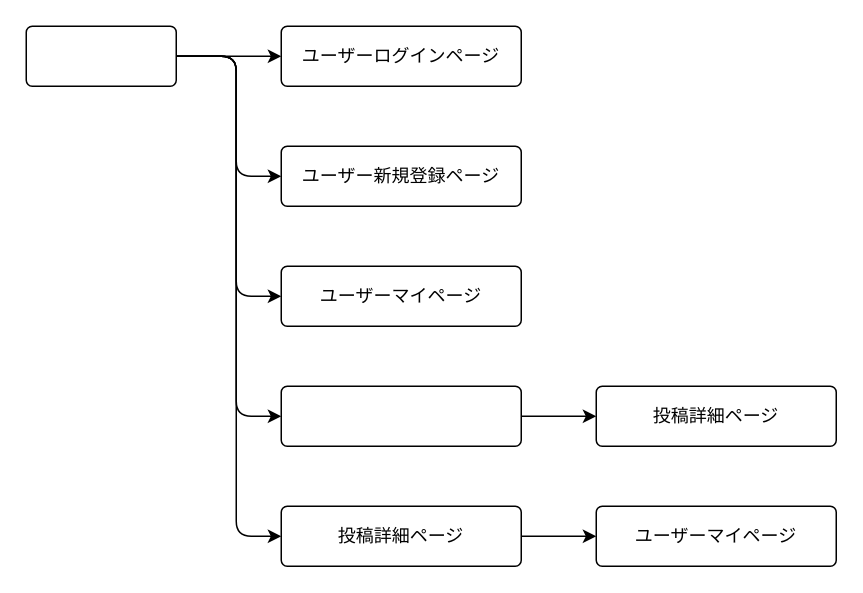
Image size: 863x593. Some labels were removed from this diagram. The shapes that lost their labels are listed below. From the top down, each one's centre as x and y in pixels, then its label:
the point at 100,55: 一覧ページ
the point at 400,415: 新規投稿ページ
